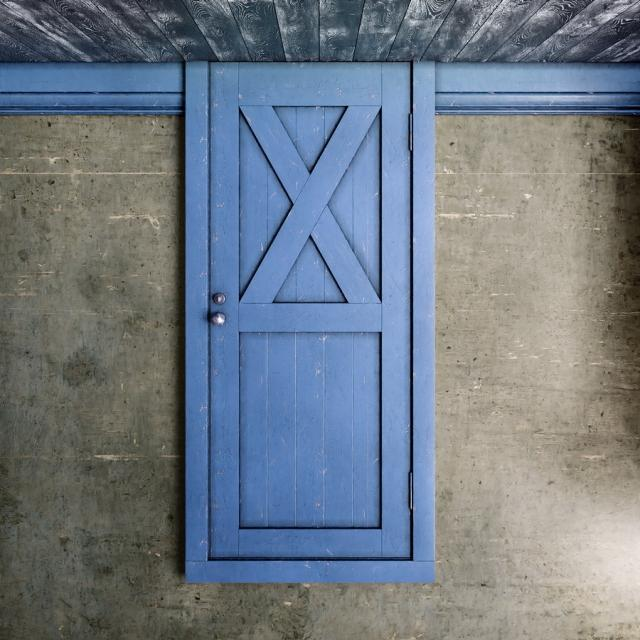close: (183, 71, 430, 577)
